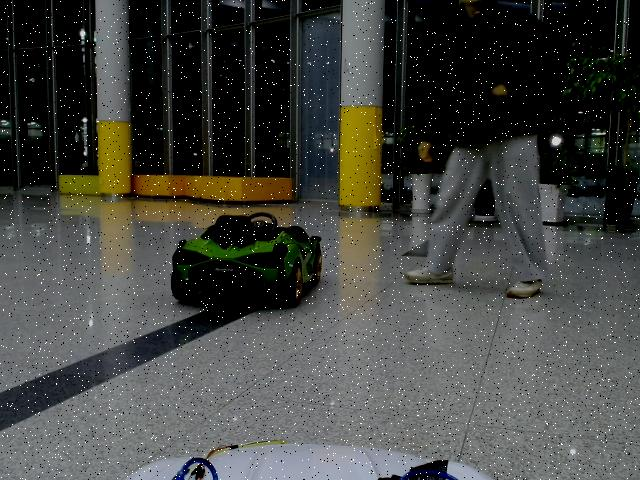car: (171, 212, 323, 307)
